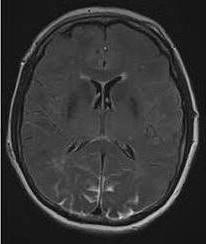Normal_Brain: (3, 1, 206, 244)
